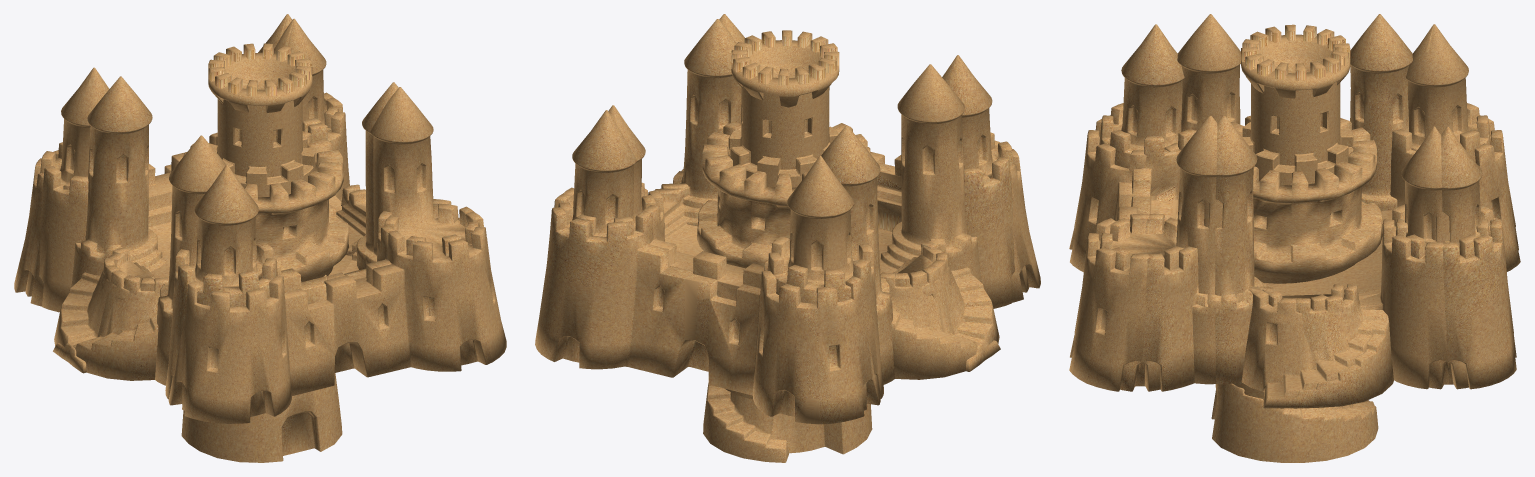
The model's file is Sand Castle.fbx.
3 renders of one model, left to right at view 1: azimuth 30°, elevation 25°; view 2: azimuth 150°, elevation 25°; view 3: azimuth 270°, elevation 25°, orthographic. The views are drawn at different scales.
Visible parts, largest first — view 1: Cylinder.004, Cylinder.003, Cylinder.001, Cylinder.002, Cylinder.005; view 2: Cylinder.003, Cylinder.004, Cylinder.001, Cylinder.002, Cylinder.005; view 3: Cylinder.004, Cylinder.003, Cylinder.001, Cylinder.002, Cylinder.005.
Part boxes in pixels (x1,y1,x2,y2): Cylinder.004: (25, 18, 506, 423); Cylinder.003: (14, 14, 479, 410); Cylinder.001: (208, 43, 326, 276); Cylinder.002: (183, 131, 348, 396); Cylinder.005: (181, 373, 342, 462); Cylinder.003: (535, 19, 1029, 424); Cylinder.004: (558, 14, 1040, 410); Cylinder.001: (728, 30, 839, 187); Cylinder.002: (697, 121, 870, 398); Cylinder.005: (703, 383, 872, 462); Cylinder.004: (1069, 14, 1490, 408); Cylinder.003: (1099, 14, 1520, 408); Cylinder.001: (1241, 24, 1353, 185); Cylinder.002: (1231, 115, 1382, 399); Cylinder.005: (1211, 383, 1378, 462).
Bounding box in the file's own units: 907 × 816 × 876.
